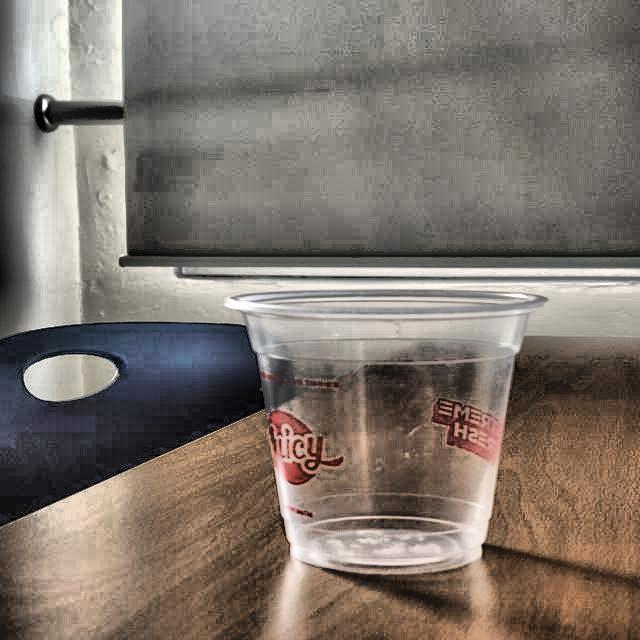plastic cup: (222, 288, 548, 574)
